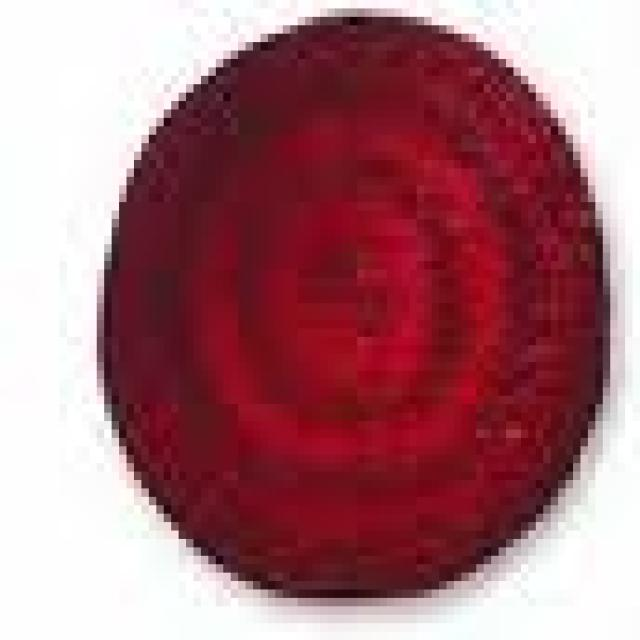beetroot: (81, 0, 610, 589)
